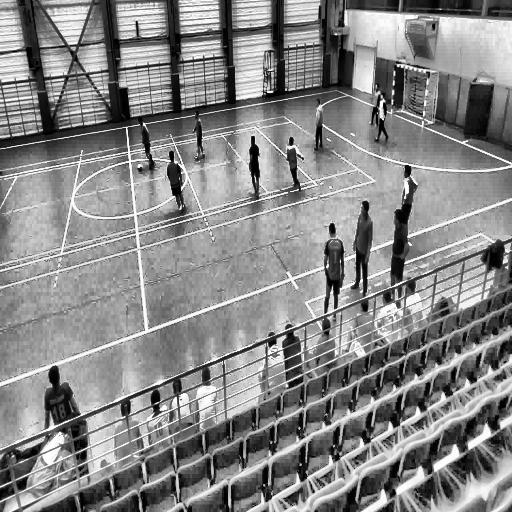ball: (137, 161, 143, 173)
player: (322, 221, 344, 321), (352, 199, 373, 300), (389, 208, 408, 302), (166, 149, 186, 215), (286, 135, 304, 193), (138, 114, 156, 172), (248, 134, 262, 202), (373, 89, 388, 144), (192, 108, 206, 162), (369, 80, 381, 127), (314, 97, 324, 152)
